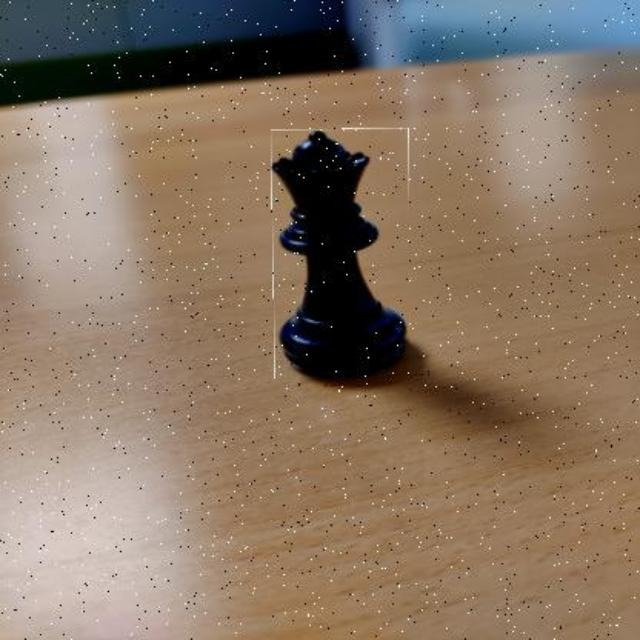black-queen: (272, 129, 410, 381)
